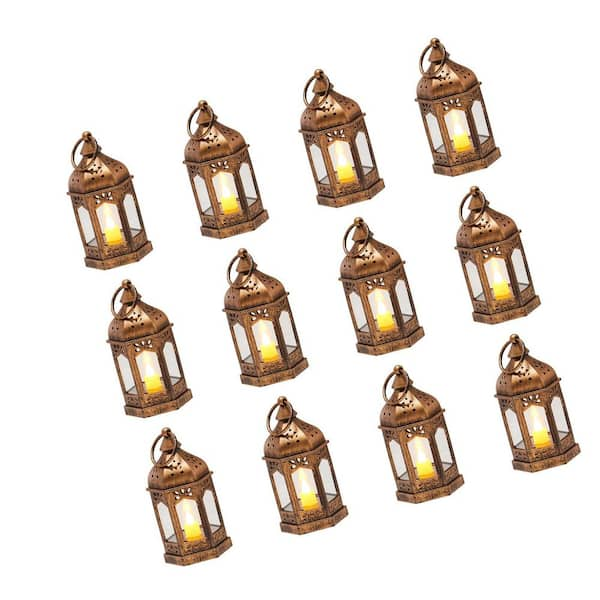Open-Flame-Hazard: (52, 116, 163, 282), (398, 30, 511, 182), (201, 242, 314, 392), (85, 275, 197, 421), (168, 94, 276, 242), (436, 193, 549, 324), (323, 214, 428, 353), (294, 66, 391, 211)
